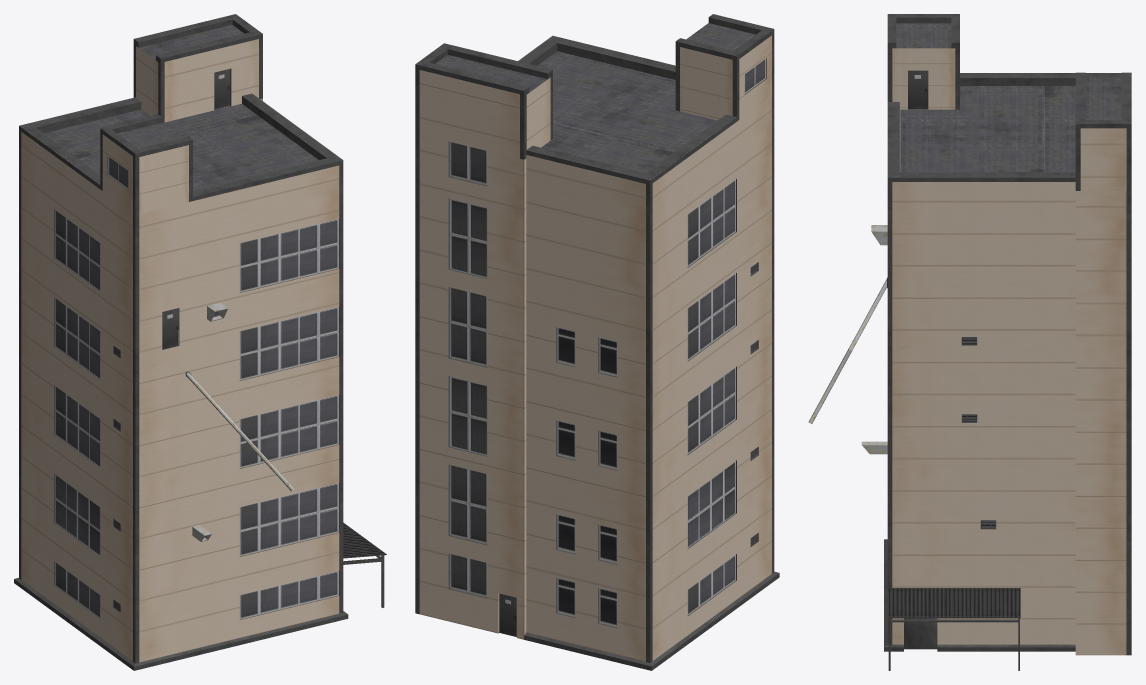
File: plant-building29-1.glb
The picture shows the model from 3 angles, left to right: view 1: azimuth 30°, elevation 25°; view 2: azimuth 150°, elevation 25°; view 3: azimuth 270°, elevation 25°; orthographic projection. The views are drawn at different scales.
Visible parts, largest first — view 1: Object8932803; view 2: Object8932803; view 3: Object8932803.
Part boxes in pixels (x1,y1,x2,y2): Object8932803: [14, 14, 386, 670]; Object8932803: [415, 14, 779, 670]; Object8932803: [808, 14, 1131, 670].
Bounding box in the file's own units: 16.34 × 31.55 × 17.39.
1 material, 1 textured.
